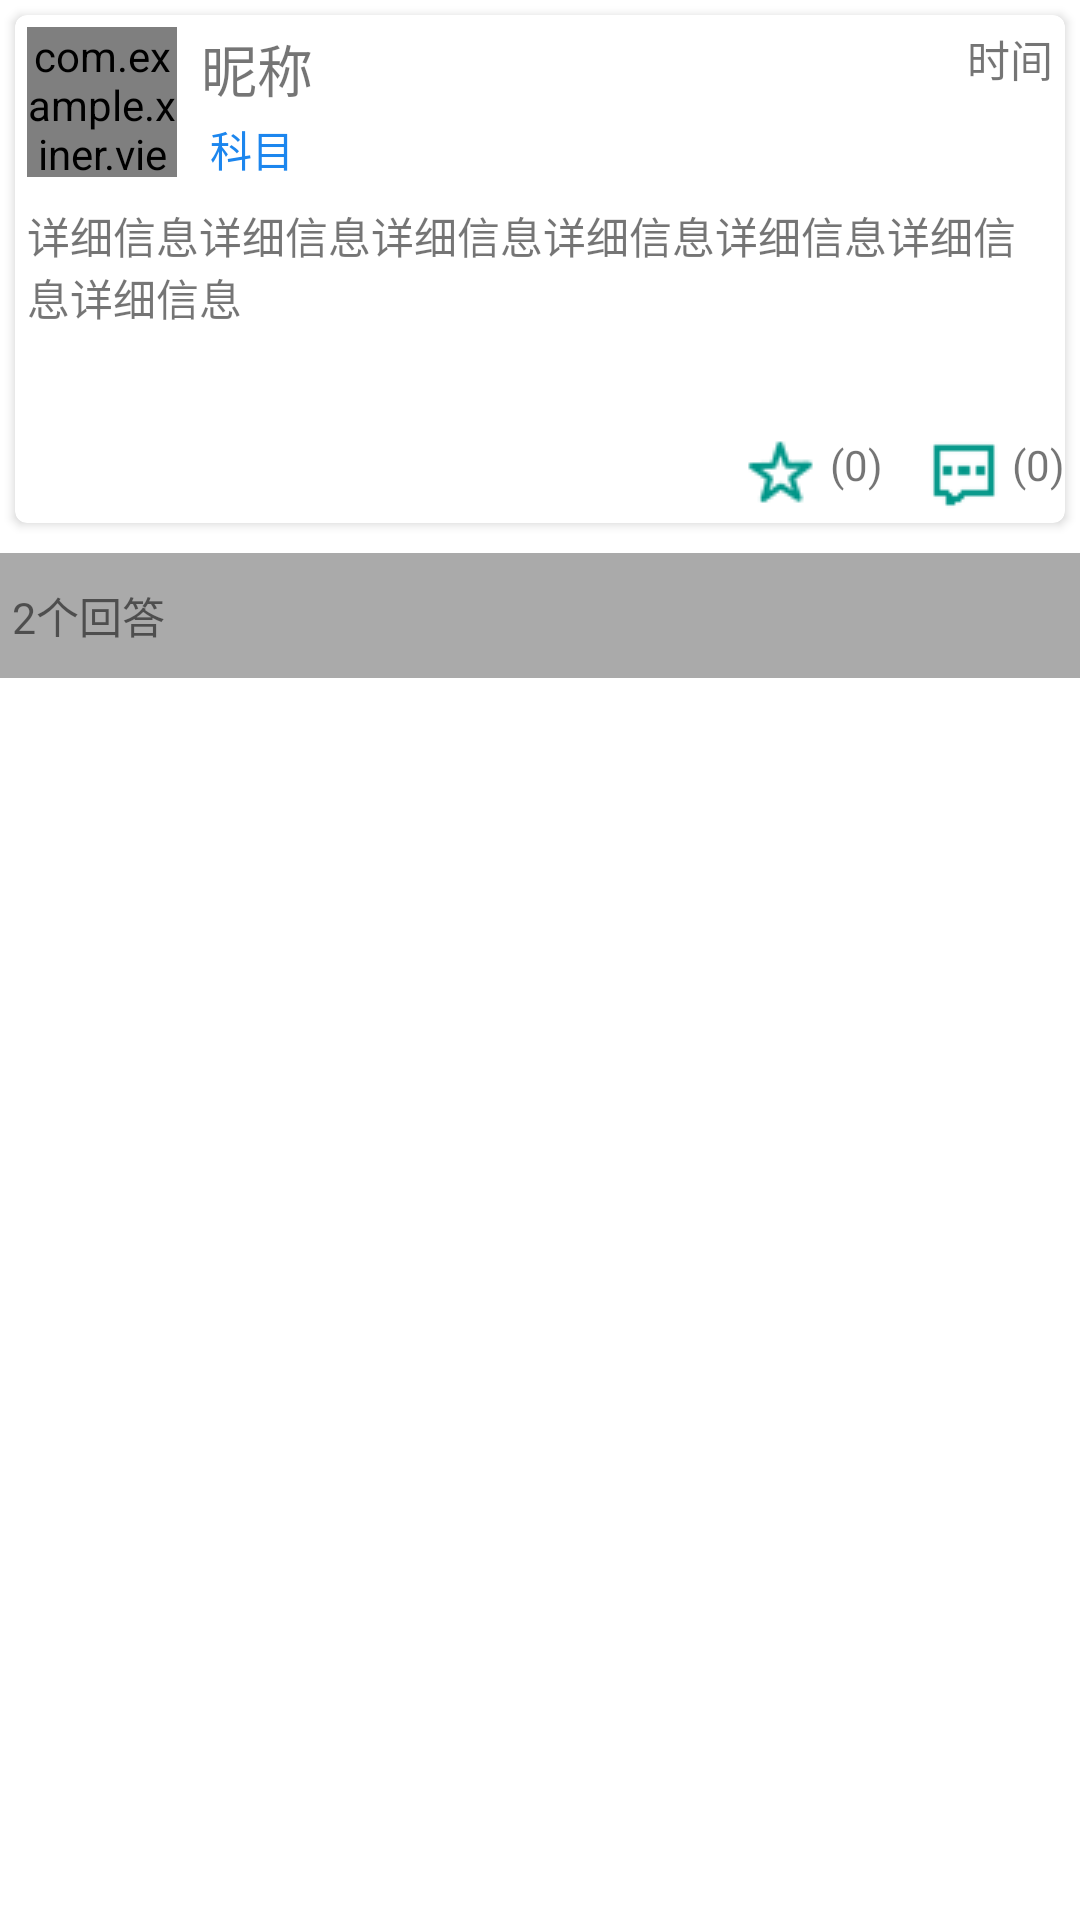

Icons on this 1080×1920 Android screen, each with the point to tap as (x=x, y=y):
comm: (x=964, y=475)
star: (x=780, y=472)
